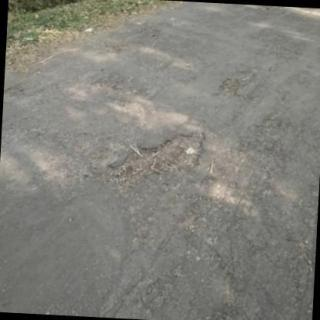pothole: (95, 134, 205, 185)
